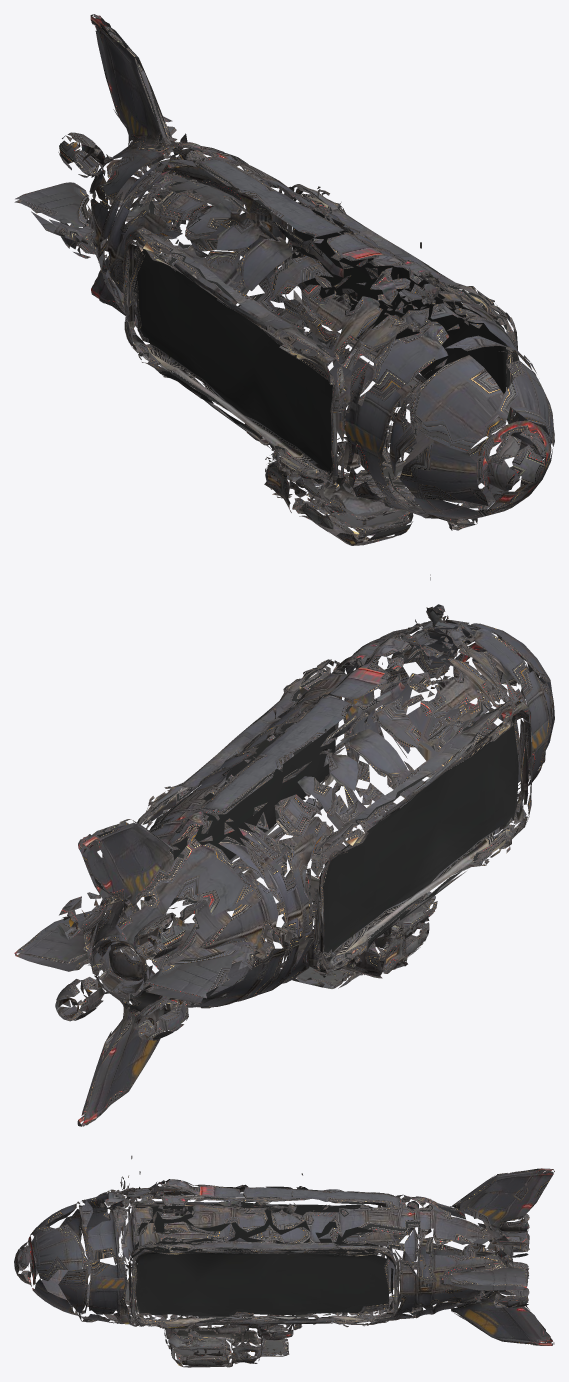
Rendered from blimp.glb.
The picture shows the model from 3 angles, top to bottom: view 1: azimuth 30°, elevation 25°; view 2: azimuth 150°, elevation 25°; view 3: azimuth 270°, elevation 25°; orthographic projection. The views are drawn at different scales.
Parts seen in each view (by area): view 1: piece0; view 2: piece0; view 3: piece0.
Part boxes in pixels (x1=…): piece0: x1=14, y1=14, x2=554, y2=545; piece0: x1=14, y1=574, x2=554, y2=1126; piece0: x1=14, y1=1155, x2=554, y2=1367.
Size of the model in its own units: 0.2738 by 0.4289 by 1.
1 material, 1 textured.
